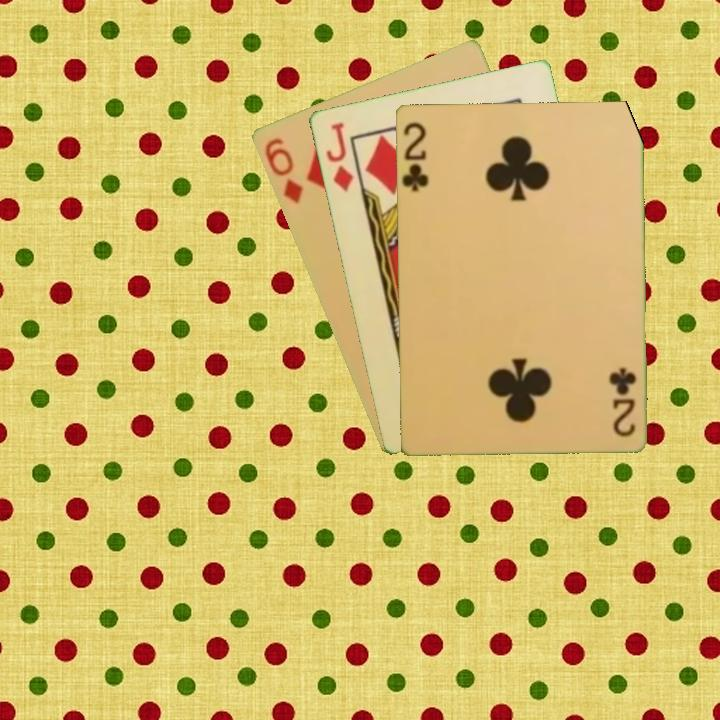2c: (399, 119, 431, 194), (608, 364, 639, 439)
6d: (260, 134, 305, 207)
Jd: (322, 118, 356, 195)
